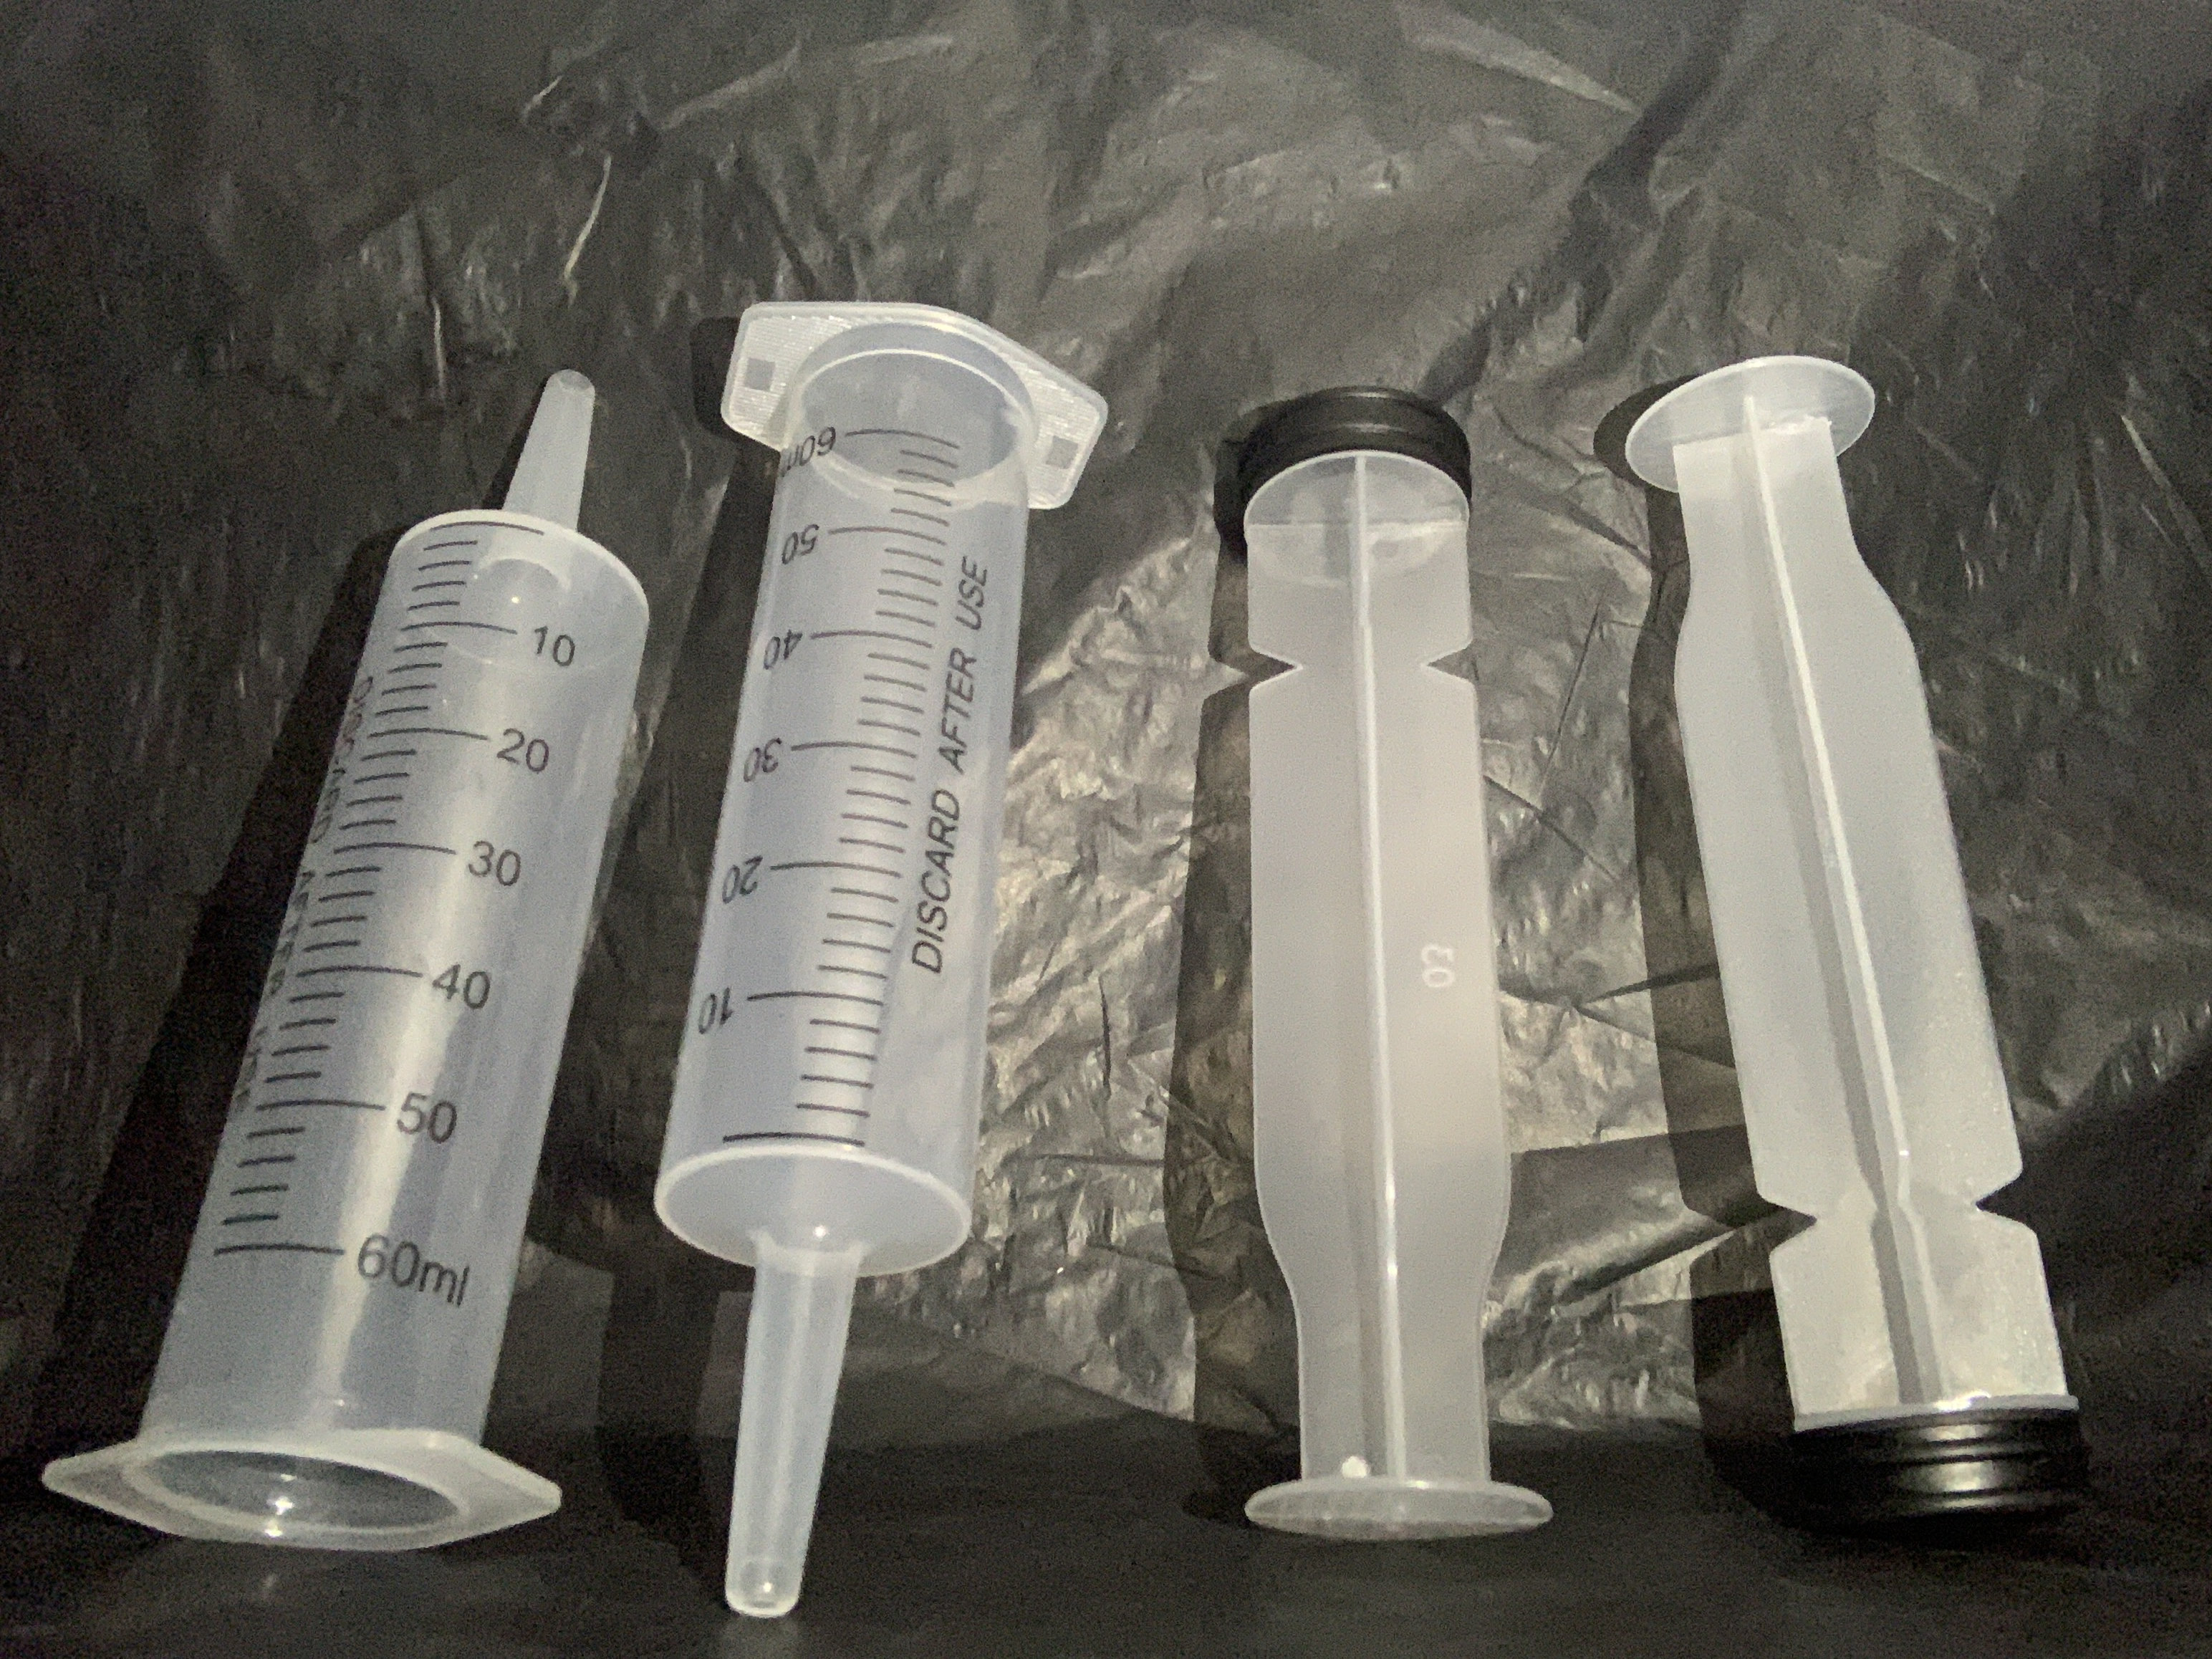plunger: (1616, 349, 2107, 1542), (1219, 376, 1557, 1561)
syringe: (33, 354, 662, 1567), (648, 291, 1116, 1615)
